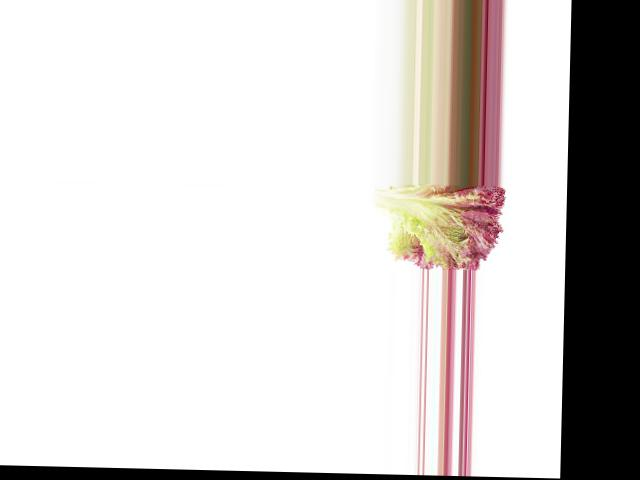lettuce: (368, 183, 513, 269)
